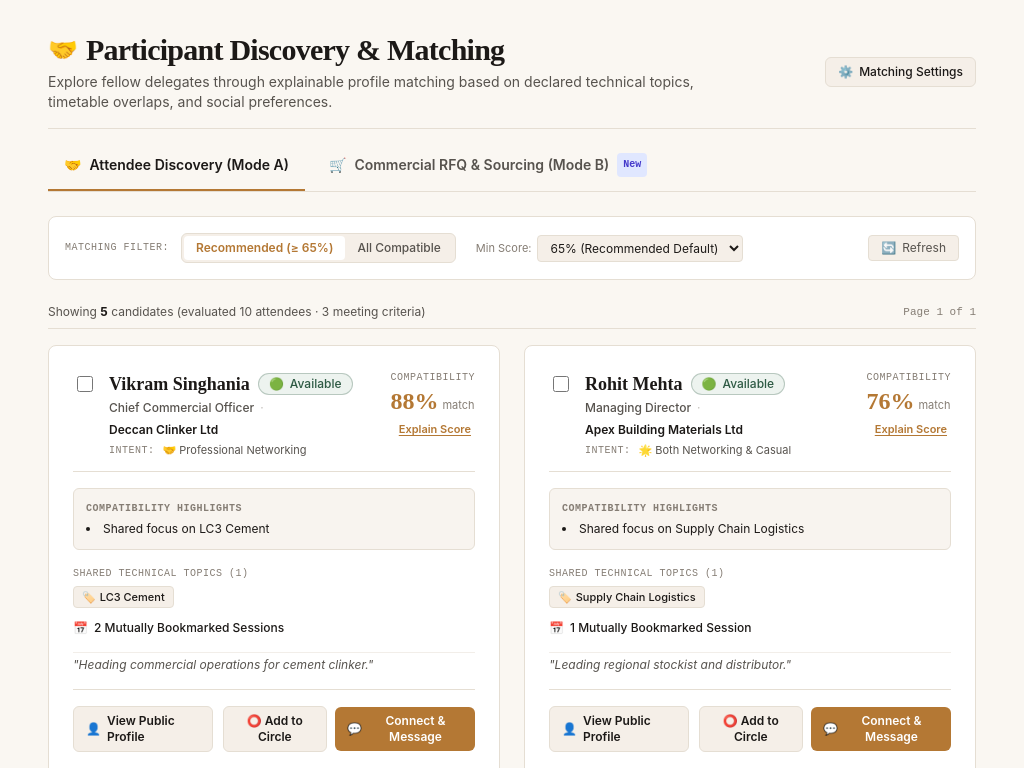
Test: Mode A Multi-Select & Thematic Circle Modal (Phase 5) › opens Launch Circle modal pre-populated with selected candidates and auto-fills title
Expected: the heading "Vikram Singhania" is shown, [109,370,250,398]
Click the checkbox named "Select Vikram Singhania for circle" at (85, 384), box [77,376,93,392]
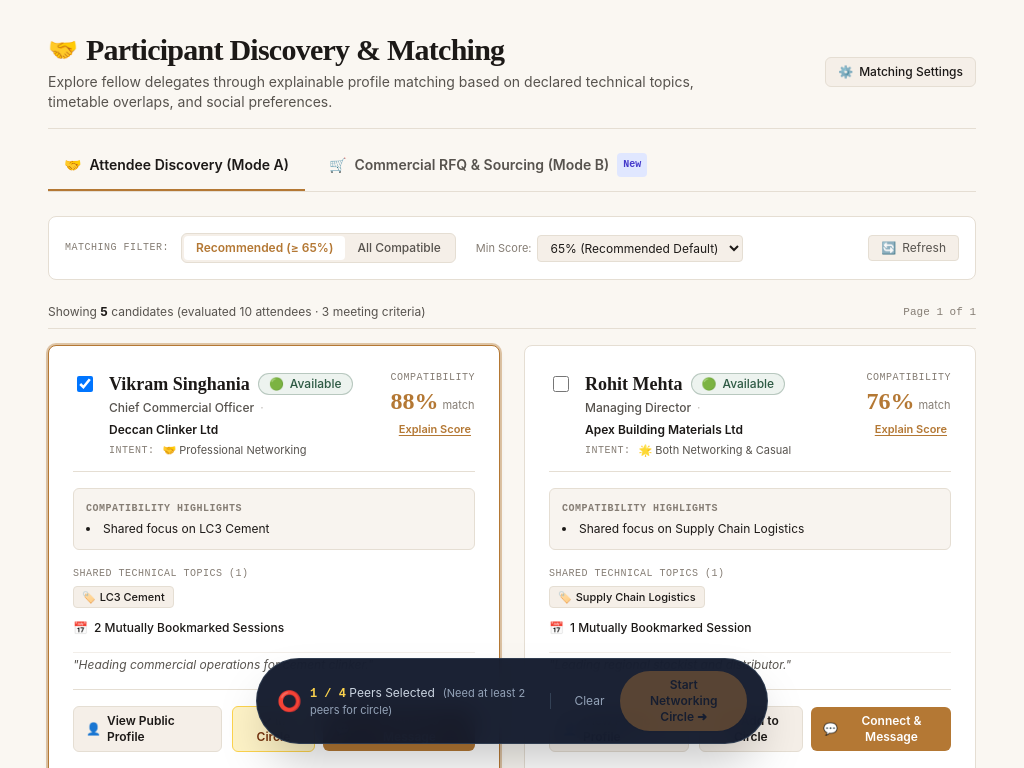
Click the checkbox named "Select Rohit Mehta for circle" at (561, 384), box [553,376,569,392]
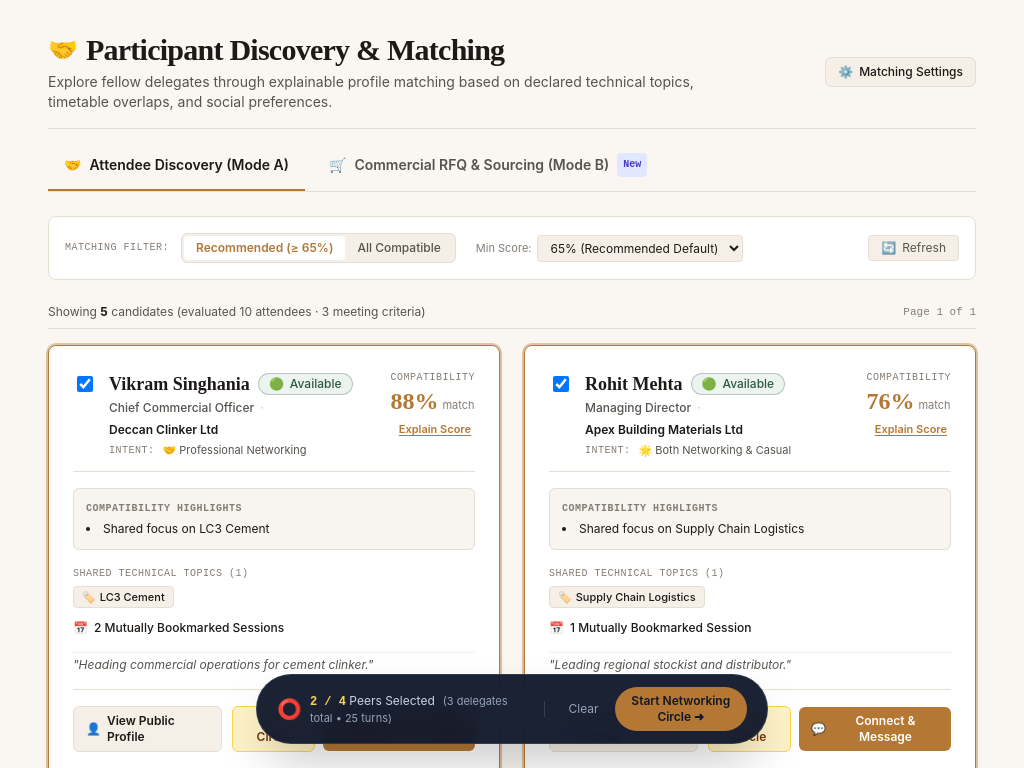
Click the button "Start Networking Circle ➜" at (681, 709), box [615,687,747,731]
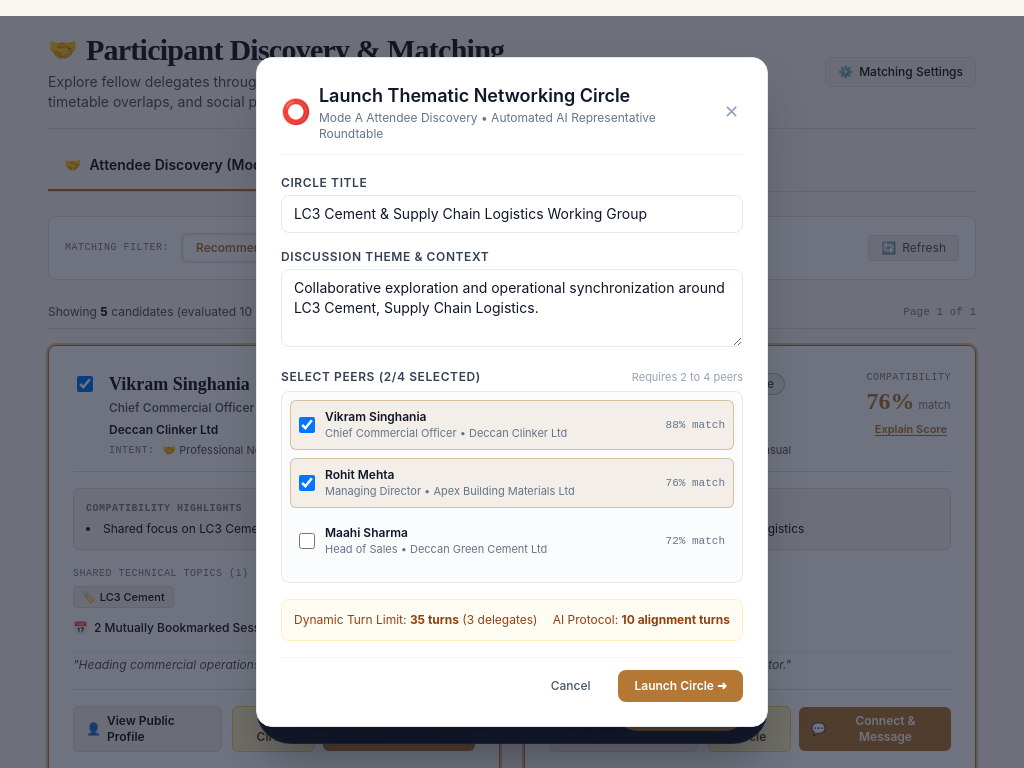
Expected: the heading "Launch Thematic Networking Circle" is shown, [319,85,630,106]
Expected: the text "Select Peers (2/4 selected)" is shown, [281,369,481,385]
Expected: the button "Launch Circle ➜" is shown, [618,670,743,702]
